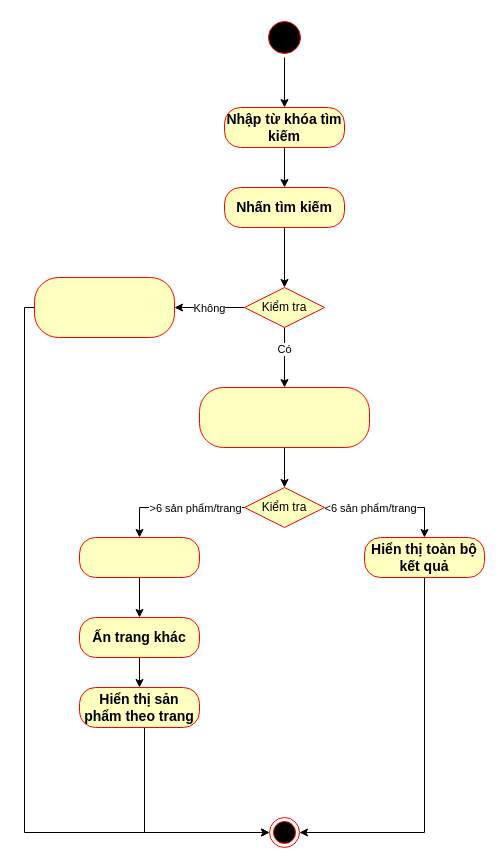
This 502x865 diagram has some shape labels left out. Here are the shapes that lost their labels. From the top down, the centre of each, then its label:
the point at 104,307: Hiển thị lỗi không tìm thấy sản phẩm
the point at 284,417: Hiển thị trang sản phẩm có liên quan tới từ khóa
the point at 139,557: Hiển thị phân trang
